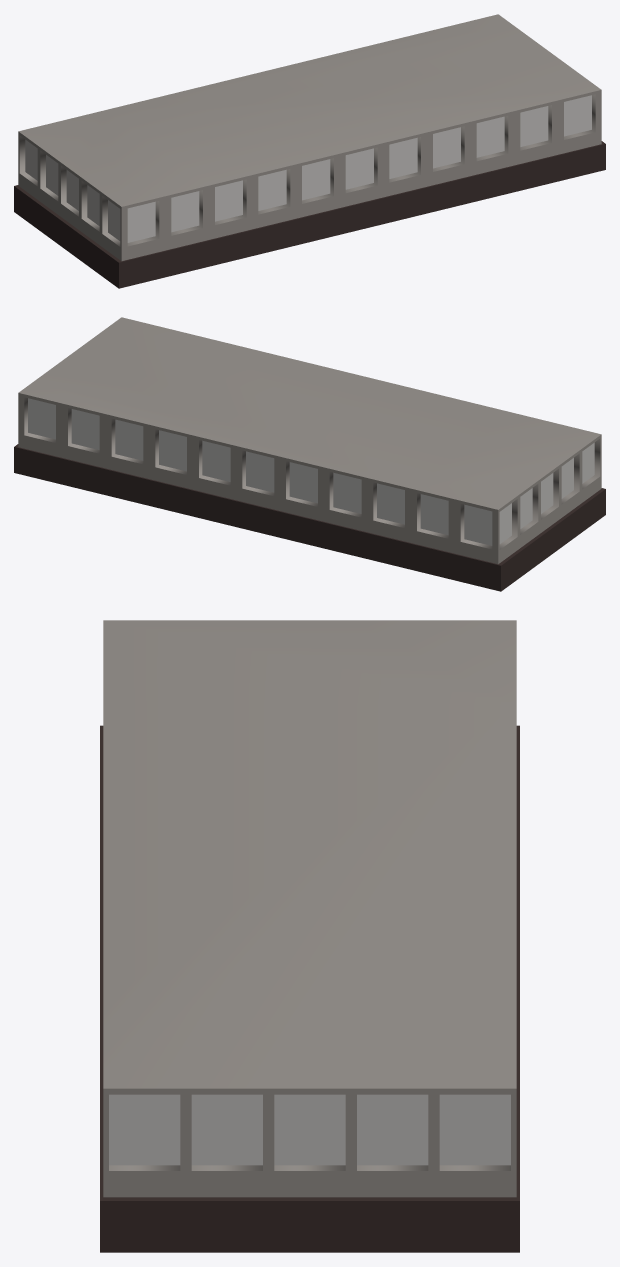
The model's file is SM_Env_Base_07.fbx.
The picture shows the model from 3 angles, top to bottom: view 1: azimuth 30°, elevation 25°; view 2: azimuth 150°, elevation 25°; view 3: azimuth 270°, elevation 25°; orthographic projection. The views are drawn at different scales.
Parts seen in each view (by area): view 1: SM_Env_Base_07; view 2: SM_Env_Base_07; view 3: SM_Env_Base_07.
Boxes of the visible parts, bbox=[...] form: SM_Env_Base_07: bbox=[14, 14, 605, 288]; SM_Env_Base_07: bbox=[14, 317, 605, 591]; SM_Env_Base_07: bbox=[100, 620, 519, 1252].
Size of the model in its own units: 1713 by 270 by 639.
1 material, 1 textured.
